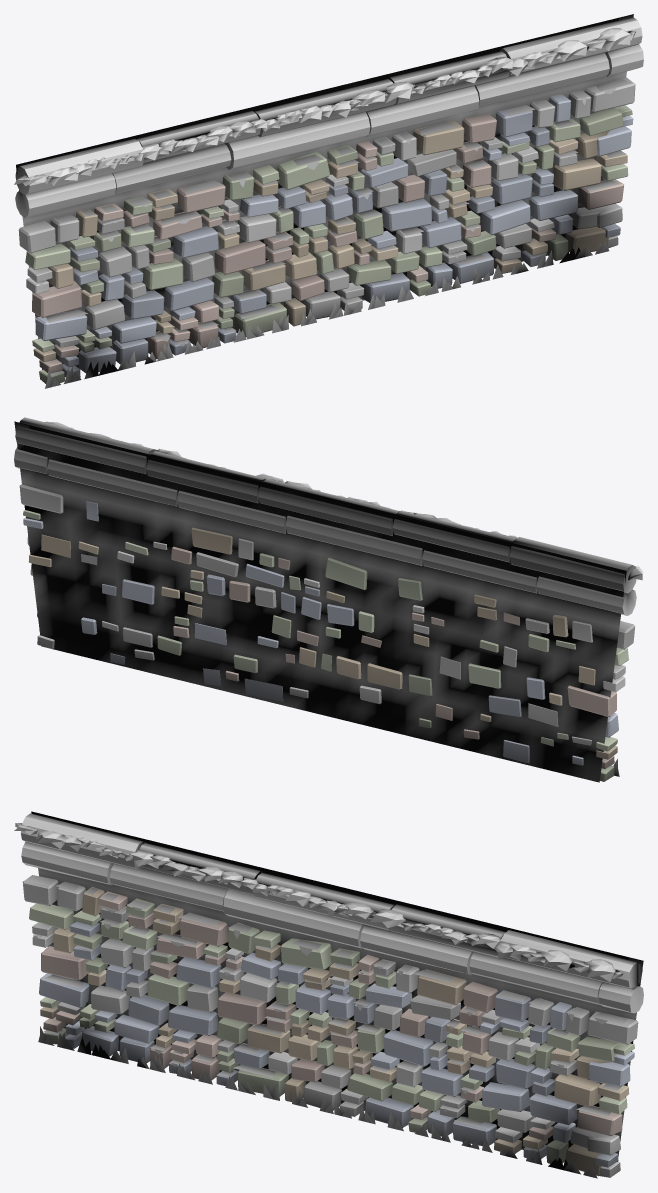
The model's file is meadow_front.glb.
The picture shows the model from 3 angles, top to bottom: view 1: azimuth 30°, elevation 25°; view 2: azimuth 150°, elevation 25°; view 3: azimuth 330°, elevation 25°; orthographic projection.
Visible parts, largest first — view 1: Stones_stone, Logs_log, Backing_soil, Moss_moss, Grass_moss, Grass_grass, Foot_grass, Logs_log_end; view 2: Backing_soil, Stones_stone, Logs_log, Grass_grass, Logs_log_end; view 3: Stones_stone, Logs_log, Backing_soil, Moss_moss, Grass_moss, Grass_grass, Foot_grass, Logs_log_end.
Boxes of the visible parts, bbox=[...] form: Stones_stone: bbox=[18, 77, 635, 383]; Logs_log: bbox=[20, 17, 643, 217]; Backing_soil: bbox=[16, 14, 633, 369]; Moss_moss: bbox=[32, 79, 632, 375]; Grass_moss: bbox=[14, 32, 635, 186]; Grass_grass: bbox=[17, 28, 635, 179]; Foot_grass: bbox=[45, 241, 609, 388]; Logs_log_end: bbox=[15, 48, 611, 217]; Backing_soil: bbox=[14, 421, 626, 782]; Stones_stone: bbox=[19, 484, 635, 781]; Logs_log: bbox=[14, 417, 631, 615]; Grass_grass: bbox=[44, 421, 642, 577]; Logs_log_end: bbox=[46, 449, 636, 615]; Stones_stone: bbox=[22, 875, 638, 1177]; Logs_log: bbox=[21, 813, 638, 1013]; Backing_soil: bbox=[31, 811, 643, 1161]; Moss_moss: bbox=[33, 881, 627, 1154]; Grass_moss: bbox=[14, 823, 622, 981]; Grass_grass: bbox=[16, 823, 622, 974]; Foot_grass: bbox=[38, 1026, 597, 1178]; Logs_log_end: bbox=[107, 841, 643, 1013].
Size of the model in its own units: 22.18 by 7.47 by 1.2.
